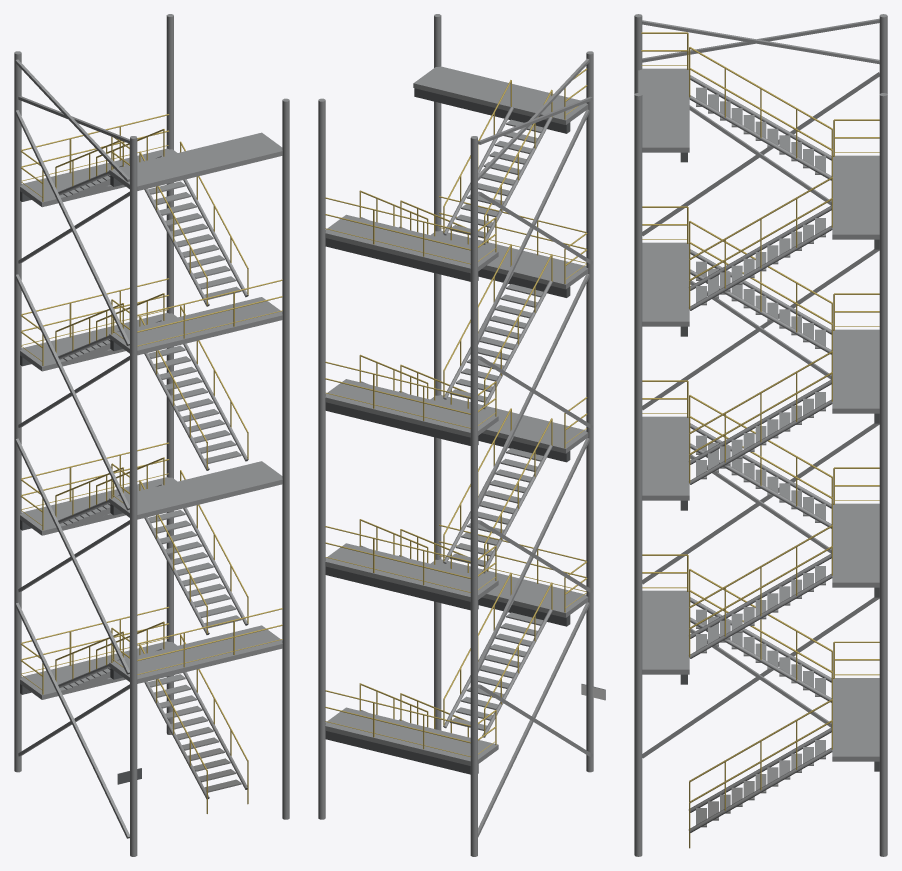
File: stair_e_lo.glb
The picture shows the model from 3 angles, left to right: view 1: azimuth 30°, elevation 25°; view 2: azimuth 150°, elevation 25°; view 3: azimuth 270°, elevation 25°; orthographic projection. The views are drawn at different scales.
Visible parts, largest first — view 1: stair_e_lo; view 2: stair_e_lo; view 3: stair_e_lo.
Part boxes in pixels (x1=…): stair_e_lo: x1=14, y1=14, x2=289, y2=856; stair_e_lo: x1=318, y1=14, x2=605, y2=856; stair_e_lo: x1=634, y1=14, x2=887, y2=856.
Bounding box in the file's own units: 5.73 × 22.95 × 6.92.
